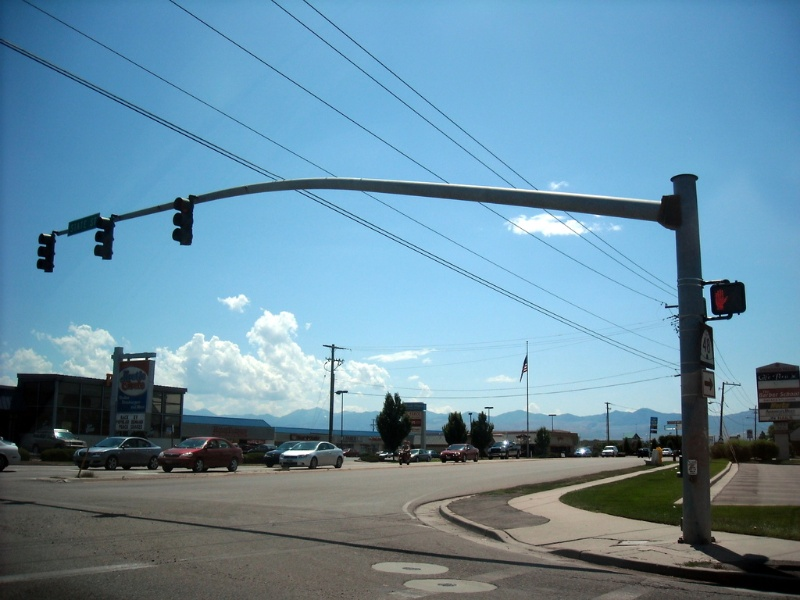red_light: (676, 267, 754, 329)
